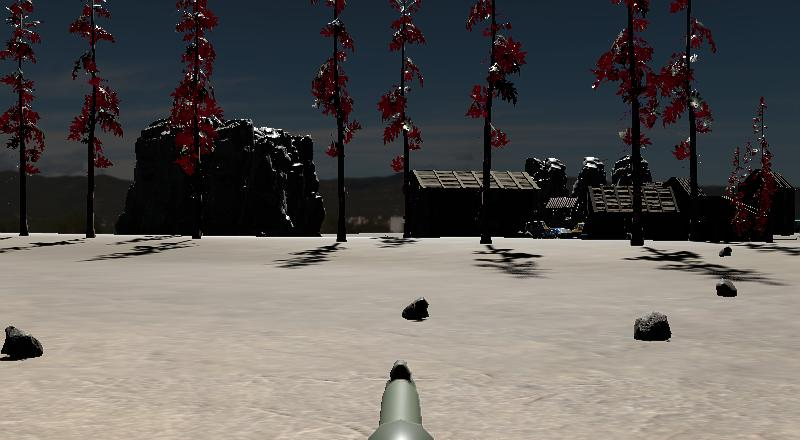House: (403, 168, 539, 237), (587, 185, 676, 245), (545, 196, 581, 232)
